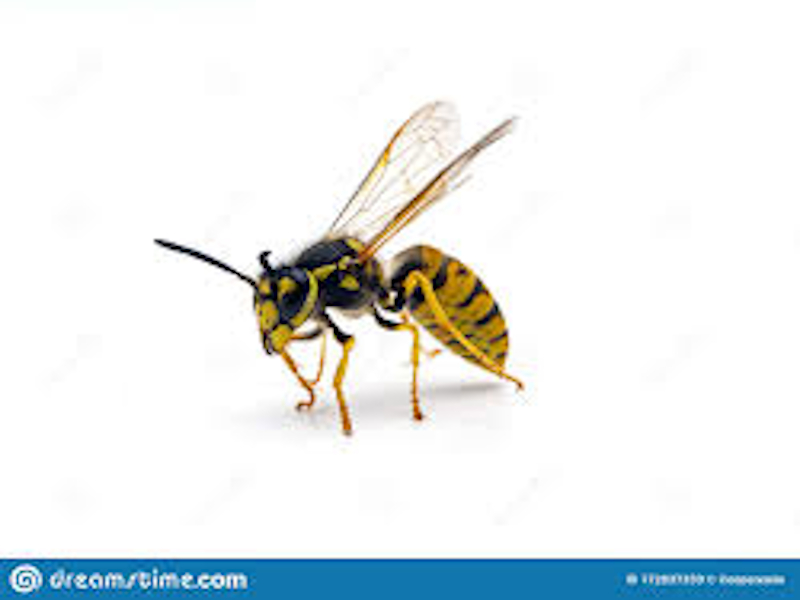chax: (143, 83, 571, 441)
